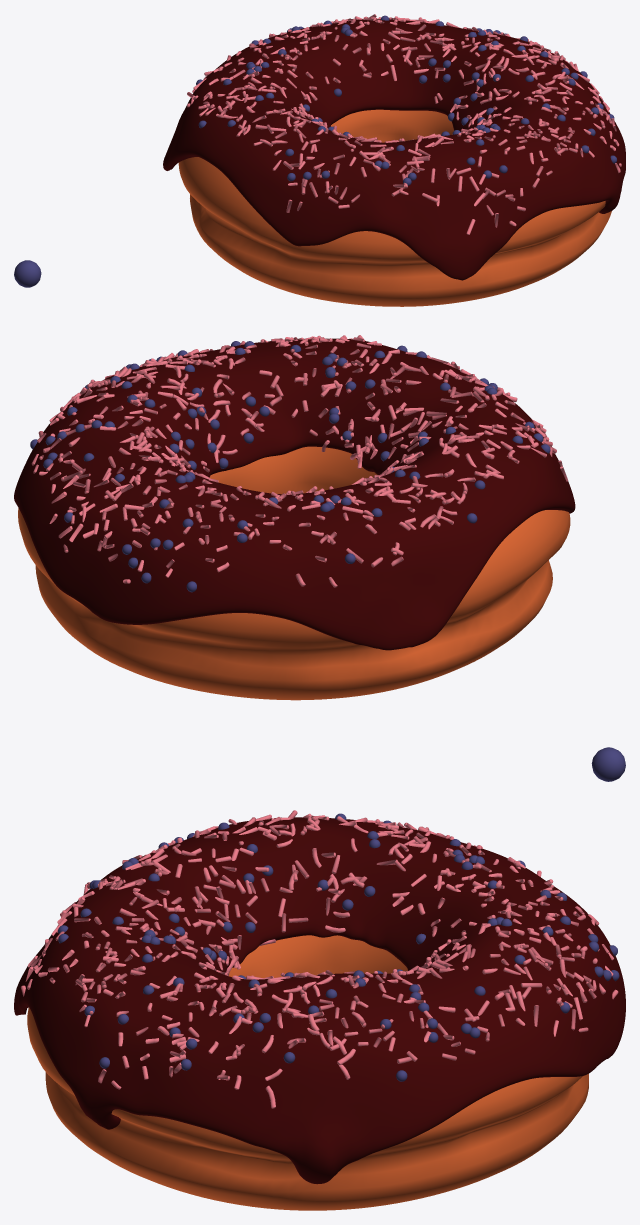
Rendered from Donut1.glb.
The picture shows the model from 3 angles, top to bottom: view 1: azimuth 30°, elevation 25°; view 2: azimuth 150°, elevation 25°; view 3: azimuth 270°, elevation 25°; orthographic projection. The views are drawn at different scales.
Parts seen in each view (by area): view 1: ice, Donut, Sphere; view 2: ice, Donut, Sphere; view 3: ice, Donut.
Part boxes in pixels (x1,y1,x2,y2): ice: [163, 18, 625, 280]; Donut: [178, 109, 611, 306]; Sphere: [14, 260, 41, 287]; ice: [14, 338, 575, 650]; Donut: [18, 446, 570, 700]; Sphere: [591, 747, 625, 781]; ice: [14, 817, 625, 1184]; Donut: [27, 935, 588, 1210].
Size of what is drawn, in the model's own units: 0.2117 by 0.0679 by 0.1604.
